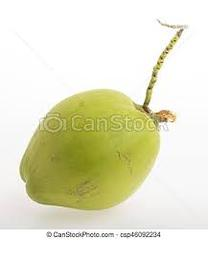coconut: (19, 89, 162, 211)
